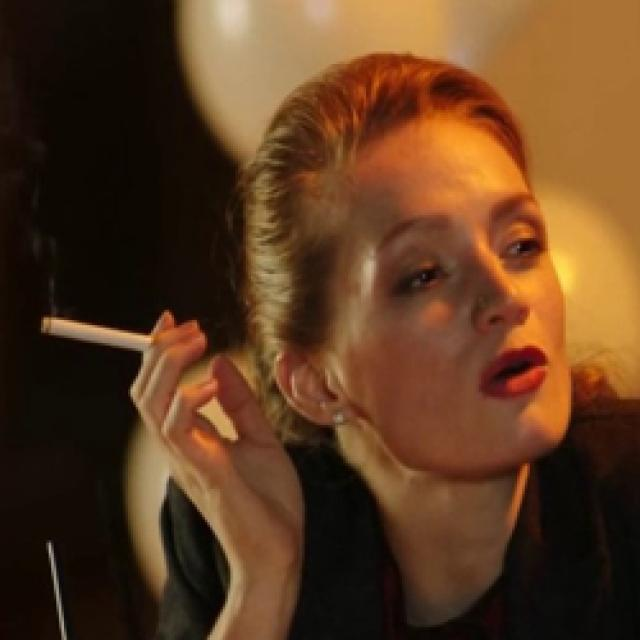Smooking: (30, 306, 176, 368)
